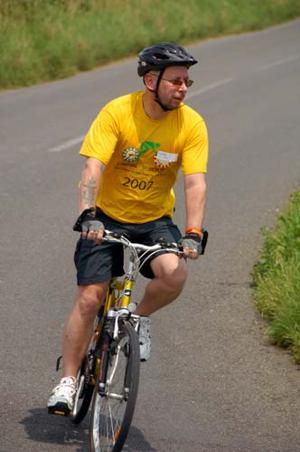person: (48, 44, 211, 413)
